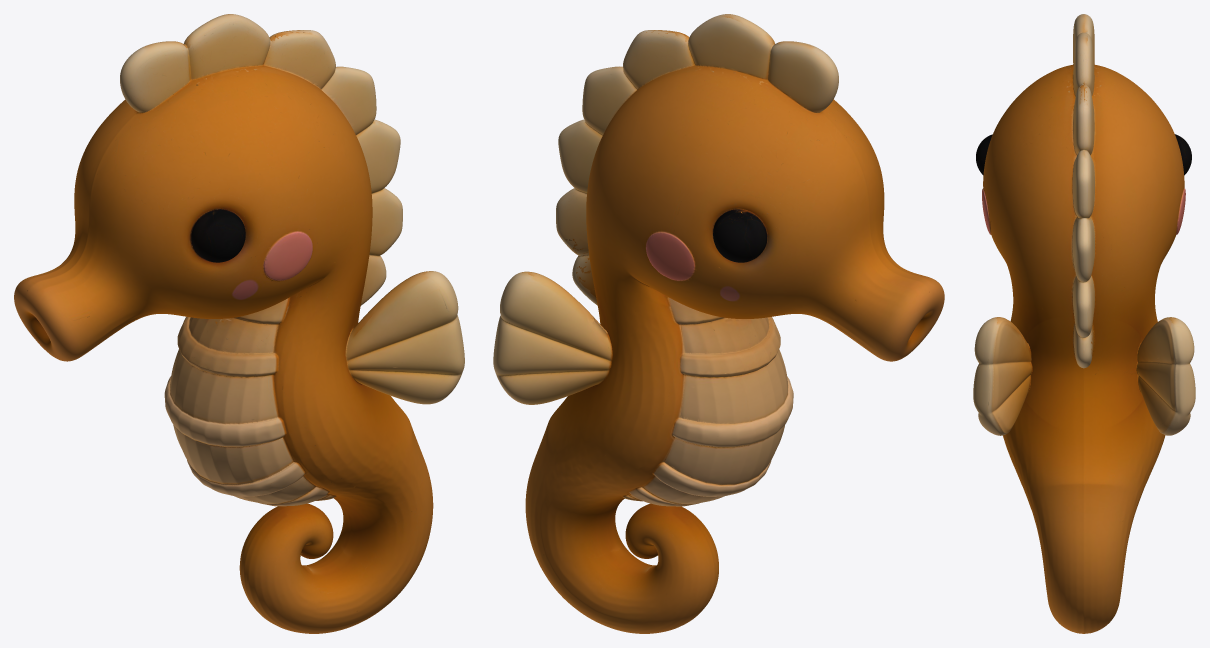
File: tiny_planet_friends_3d-walrus-4189.high.glb
3 views of the same model, side by side, from view 1: azimuth 30°, elevation 25°; view 2: azimuth 150°, elevation 25°; view 3: azimuth 270°, elevation 25° (orthographic). The views are drawn at different scales.
Parts seen in each view (by area): view 1: texture_pbr_v128; view 2: texture_pbr_v128; view 3: texture_pbr_v128.
Part boxes in pixels (left/top/right/bottom): texture_pbr_v128: left=14, top=14, right=464, bottom=633; texture_pbr_v128: left=493, top=14, right=944, bottom=633; texture_pbr_v128: left=973, top=14, right=1195, bottom=633.
Bounding box in the file's own units: 0.7305 × 1.11 × 0.4117.
Materials: 1 (1 with a texture image).
